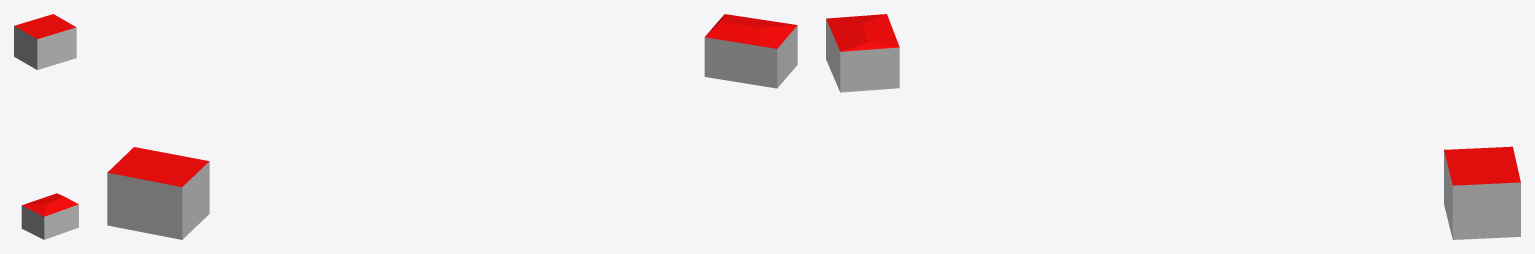
3 views of the same model, side by side, from view 1: azimuth 30°, elevation 25°; view 2: azimuth 150°, elevation 25°; view 3: azimuth 270°, elevation 25° (orthographic). The views are drawn at different scales.
Size of the model in its own units: 21.91 by 3 by 34.74.
